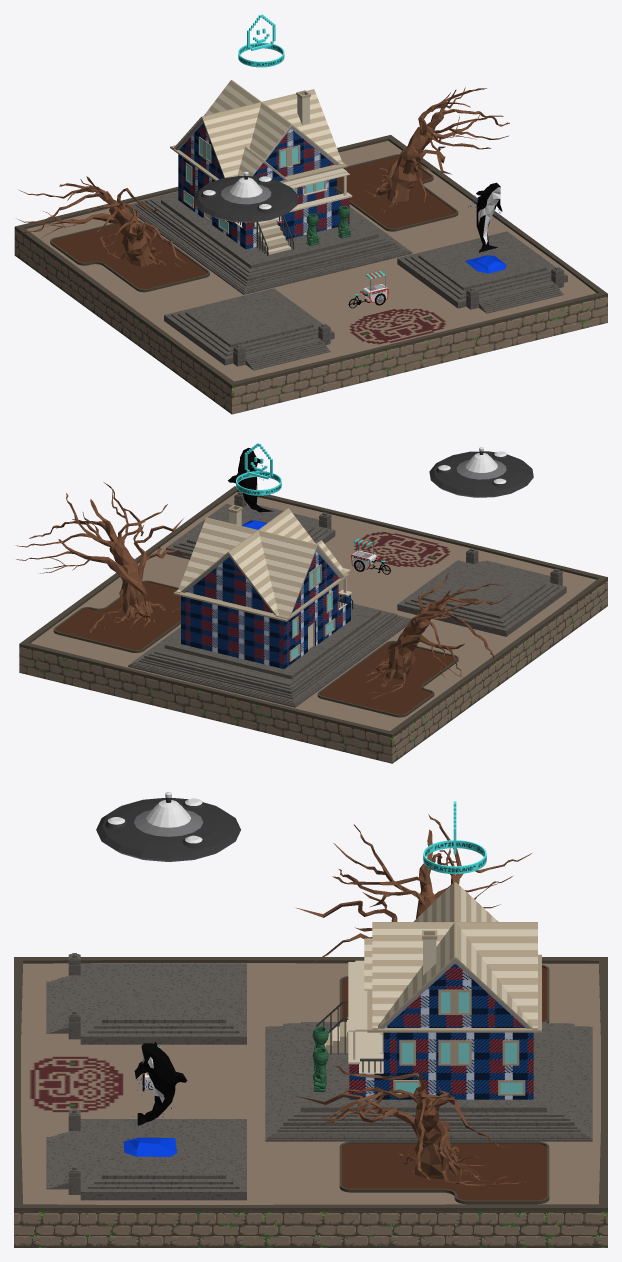
3 renders of one model, top to bottom at view 1: azimuth 30°, elevation 25°; view 2: azimuth 150°, elevation 25°; view 3: azimuth 270°, elevation 25°, orthographic. The views are drawn at different scales.
Parts seen in each view (by area): view 1: Cube.011, Cube.171, OBJRANDOM_UFO, ANIMAL_ORCA, TYPE_PREMIUM, VEHICLES_SNOWBAL_BIKE; view 2: Cube.011, Cube.171, OBJRANDOM_UFO, ANIMAL_ORCA, TYPE_PREMIUM, VEHICLES_SNOWBAL_BIKE; view 3: Cube.011, Cube.171, OBJRANDOM_UFO, ANIMAL_ORCA, TYPE_PREMIUM.
Boxes of the visible parts, box(x1,y1,x2,y2) form: Cube.011: box(14, 87, 607, 414); Cube.171: box(170, 80, 352, 255); OBJRANDOM_UFO: box(193, 171, 298, 222); ANIMAL_ORCA: box(465, 182, 506, 273); TYPE_PREMIUM: box(238, 14, 284, 67); VEHICLES_SNOWBAL_BIKE: box(348, 271, 388, 308); Cube.011: box(16, 482, 607, 763); Cube.171: box(173, 505, 353, 668); OBJRANDOM_UFO: box(429, 447, 533, 497); ANIMAL_ORCA: box(228, 448, 273, 529); TYPE_PREMIUM: box(236, 443, 281, 495); VEHICLES_SNOWBAL_BIKE: box(351, 538, 390, 574); Cube.011: box(14, 814, 607, 1247); Cube.171: box(316, 882, 541, 1099); OBJRANDOM_UFO: box(96, 792, 240, 861); ANIMAL_ORCA: box(123, 1042, 187, 1156); TYPE_PREMIUM: box(423, 801, 486, 873).
Bounding box in the file's own units: 5099 × 2444 × 4000.
34 materials, 7 textured.
